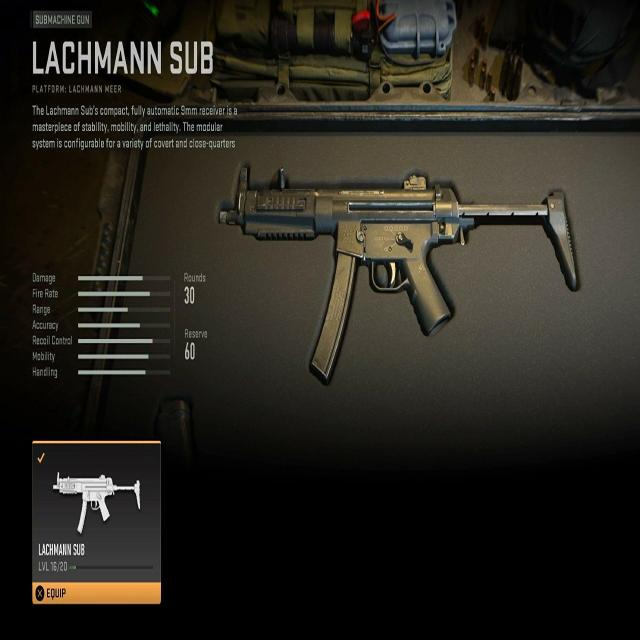weapon: (212, 158, 582, 388), (51, 468, 143, 539)
